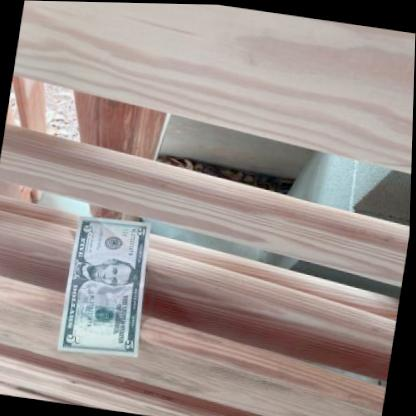five-front: (58, 215, 152, 356)
